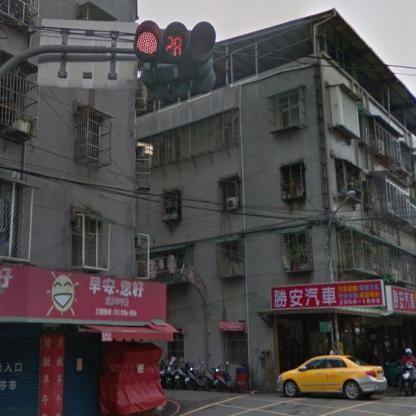Red Light: (134, 18, 216, 68)
